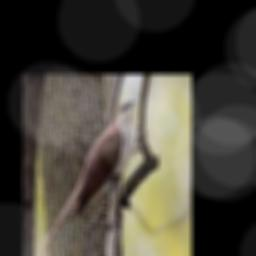Cuckoo: (38, 98, 134, 256)
